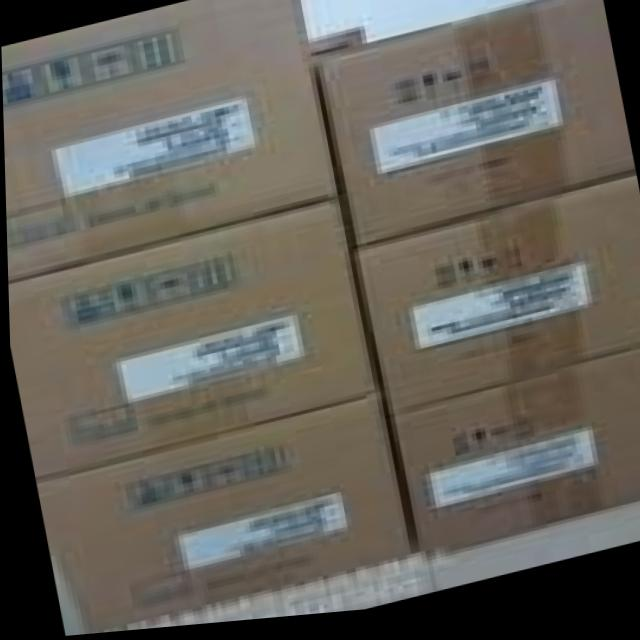box: (7, 201, 378, 481), (1, 0, 337, 281), (33, 402, 413, 635), (311, 0, 635, 255), (355, 187, 640, 424), (392, 357, 640, 564)
